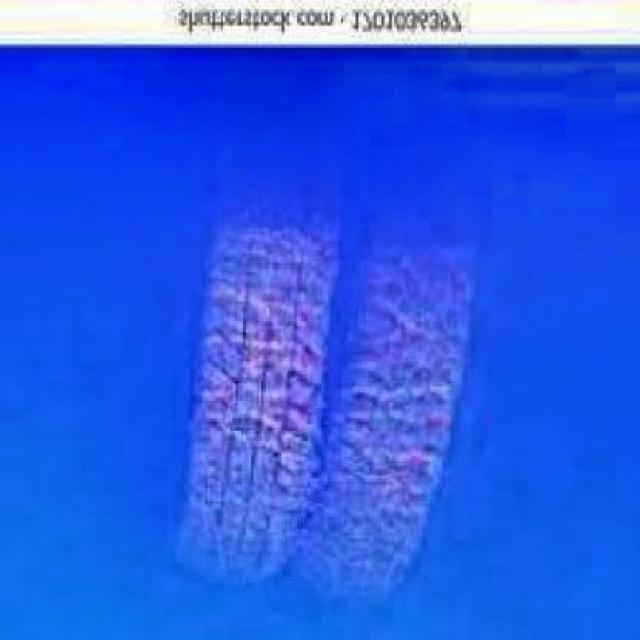tire: (166, 136, 331, 602), (336, 180, 466, 592)
